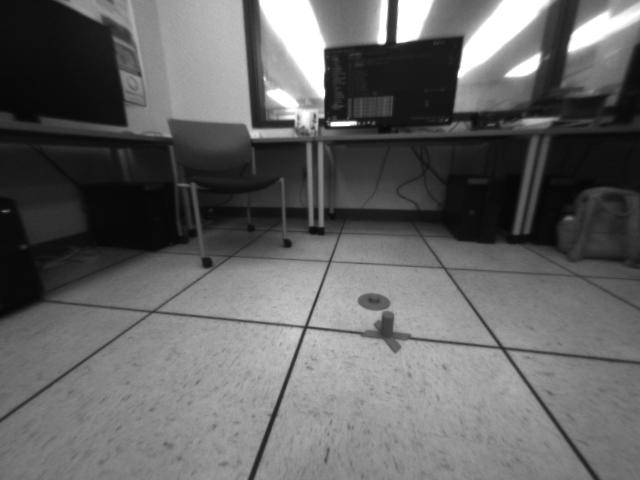X: (362, 311, 410, 354)
